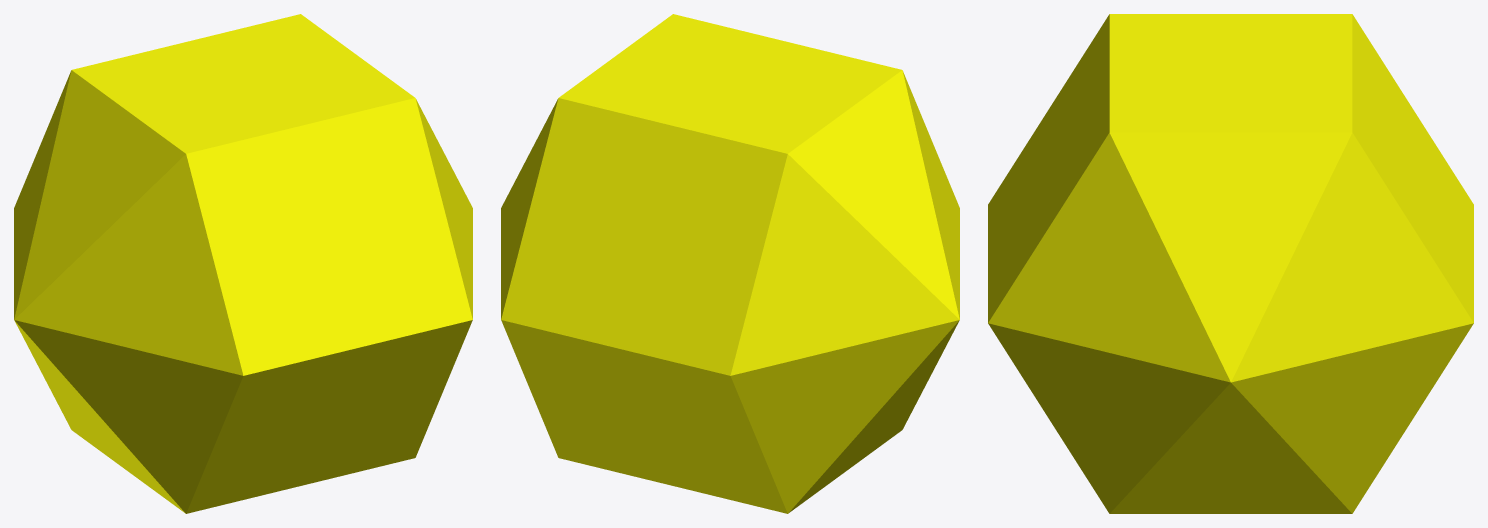
3 views of the same model, side by side, from view 1: azimuth 30°, elevation 25°; view 2: azimuth 150°, elevation 25°; view 3: azimuth 270°, elevation 25° (orthographic). The views are drawn at different scales.
Parts seen in each view (by area): view 1: Sphere003; view 2: Sphere003; view 3: Sphere003.
Boxes of the visible parts, x1,y1,x2,y2 form: Sphere003: (14,14,472,513); Sphere003: (501,14,959,513); Sphere003: (988,14,1473,513).
Bounding box in the file's own units: 20 × 17.32 × 15.
